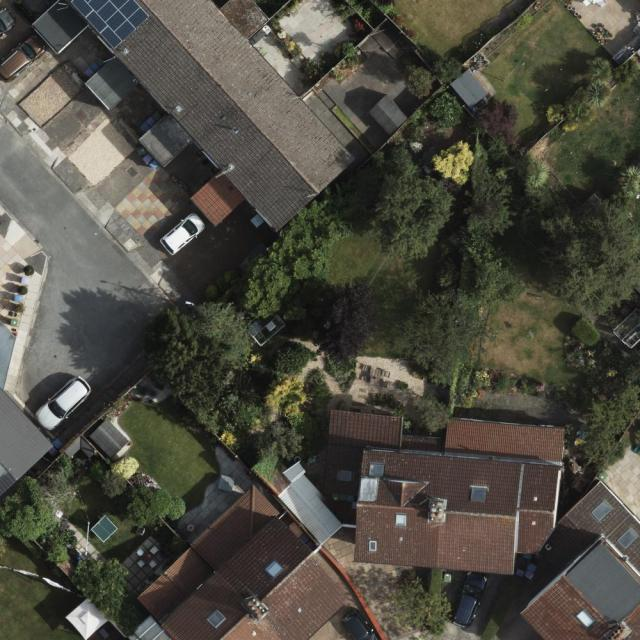roof: (29, 0, 362, 237), (319, 408, 640, 640), (130, 484, 353, 640)
skylight: (589, 498, 618, 523), (616, 524, 640, 551), (207, 606, 228, 631), (265, 558, 285, 579), (578, 607, 597, 629), (469, 483, 488, 504), (368, 461, 385, 477), (393, 512, 407, 529), (335, 470, 352, 482), (365, 541, 376, 552)
solar: (70, 0, 149, 50)
